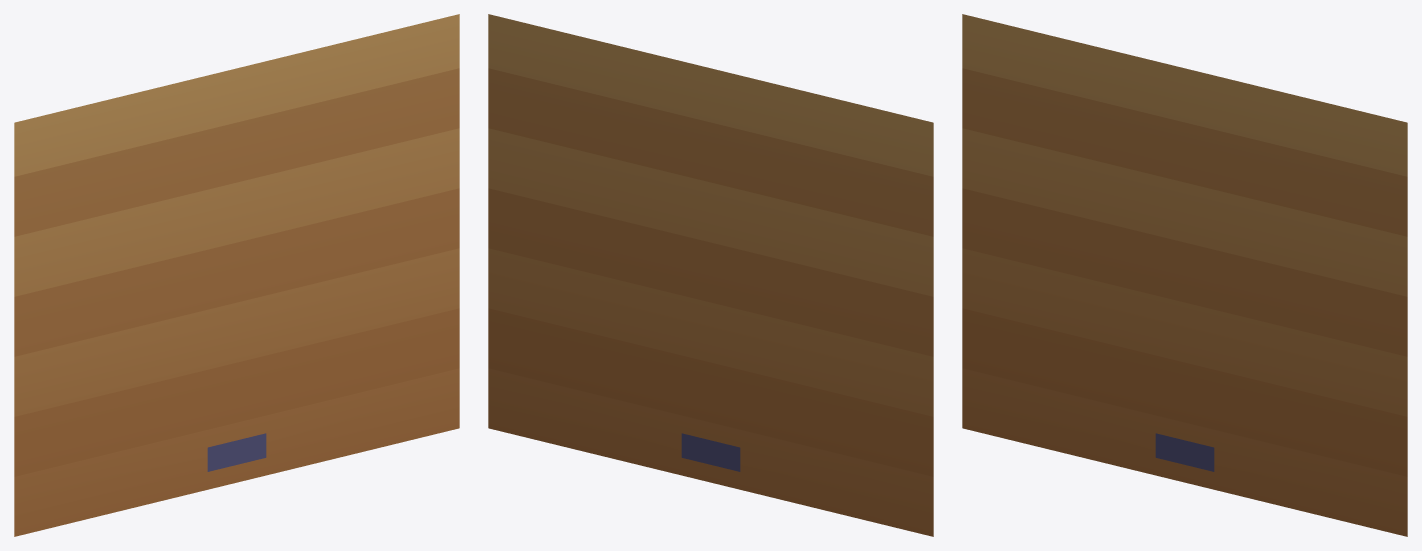
The model's file is door-wide-closed.glb.
3 renders of one model, left to right at view 1: azimuth 30°, elevation 25°; view 2: azimuth 150°, elevation 25°; view 3: azimuth 330°, elevation 25°, orthographic.
Parts seen in each view (by area): view 1: door-wide-closed; view 2: door-wide-closed; view 3: door-wide-closed.
Part boxes in pixels (x1,y1,x2,y2): door-wide-closed: (14,14,459,536); door-wide-closed: (488,14,933,536); door-wide-closed: (962,14,1407,536).
Bounding box in the file's own units: 1.8 × 1.6 × 0.
